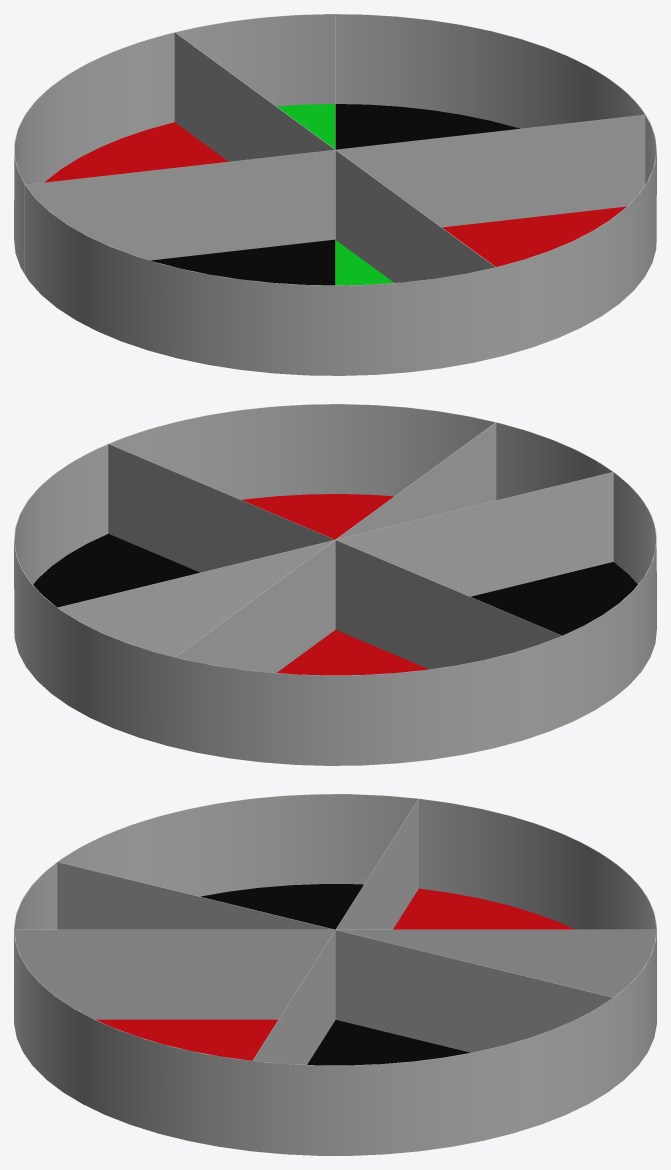
Rendered from ruletka.fbx.
3 views of the same model, one above another, from view 1: azimuth 30°, elevation 25°; view 2: azimuth 150°, elevation 25°; view 3: azimuth 270°, elevation 25° (orthographic).
Parts seen in each view (by area): view 1: Bryła1; view 2: Bryła1; view 3: Bryła1.
Boxes of the visible parts, <box> form: Bryła1: <box>14,14,656,375</box>; Bryła1: <box>14,404,656,765</box>; Bryła1: <box>14,794,656,1155</box>.
Bounding box in the file's own units: 99.06 × 15.34 × 99.03.
